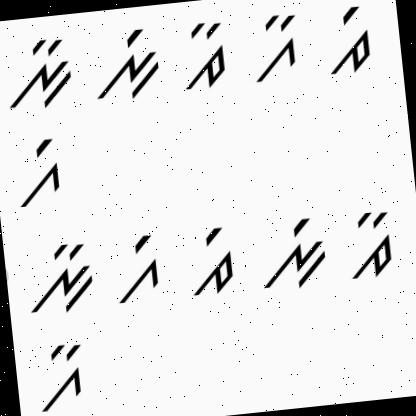gan: (239, 10, 310, 90), (27, 336, 90, 416)
gang: (105, 231, 170, 310), (6, 134, 68, 211)
ngan: (19, 235, 100, 320), (0, 33, 79, 115)
ngang: (252, 210, 338, 296), (89, 20, 164, 108)
tan: (176, 17, 238, 100), (342, 204, 400, 282)
tang: (181, 222, 245, 300), (317, 3, 376, 80)
